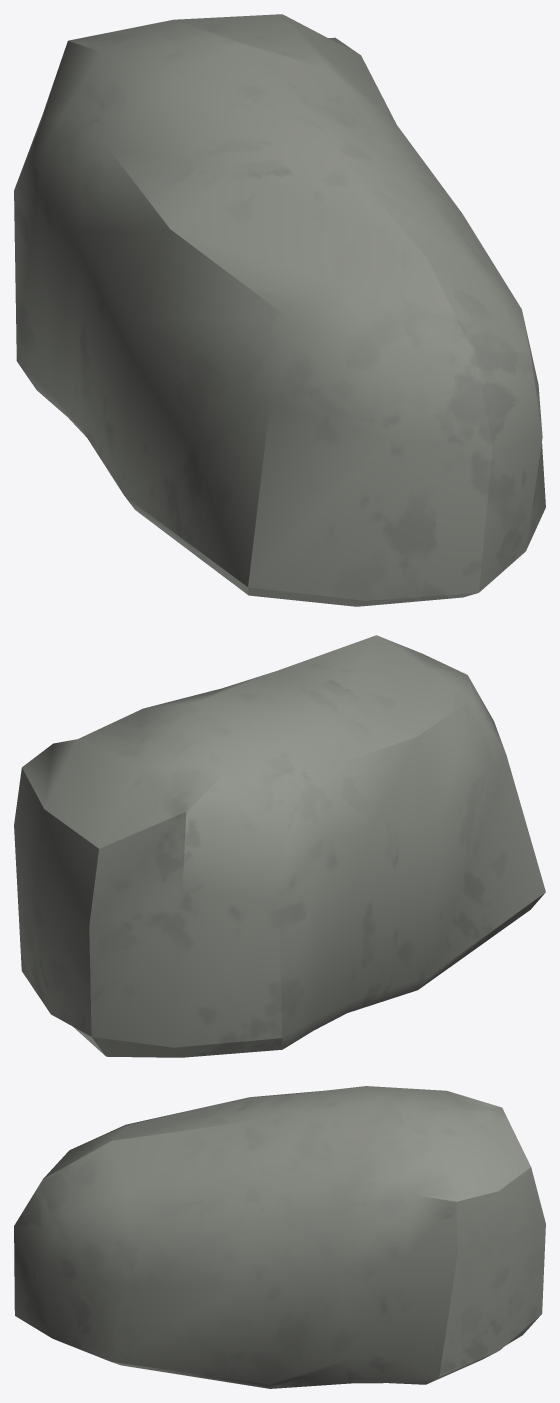
Rendered from shelfRock00.fbx.
3 views of the same model, one above another, from view 1: azimuth 30°, elevation 25°; view 2: azimuth 150°, elevation 25°; view 3: azimuth 270°, elevation 25° (orthographic). The views are drawn at different scales.
Parts seen in each view (by area): view 1: Rock1.005; view 2: Rock1.005; view 3: Rock1.005.
Part boxes in pixels (left/top/right/bottom): Rock1.005: left=14, top=14, right=545, bottom=606; Rock1.005: left=14, top=635, right=545, bottom=1057; Rock1.005: left=14, top=1086, right=545, bottom=1388.
Bounding box in the file's own units: 0.3836 × 0.3504 × 0.7065.
